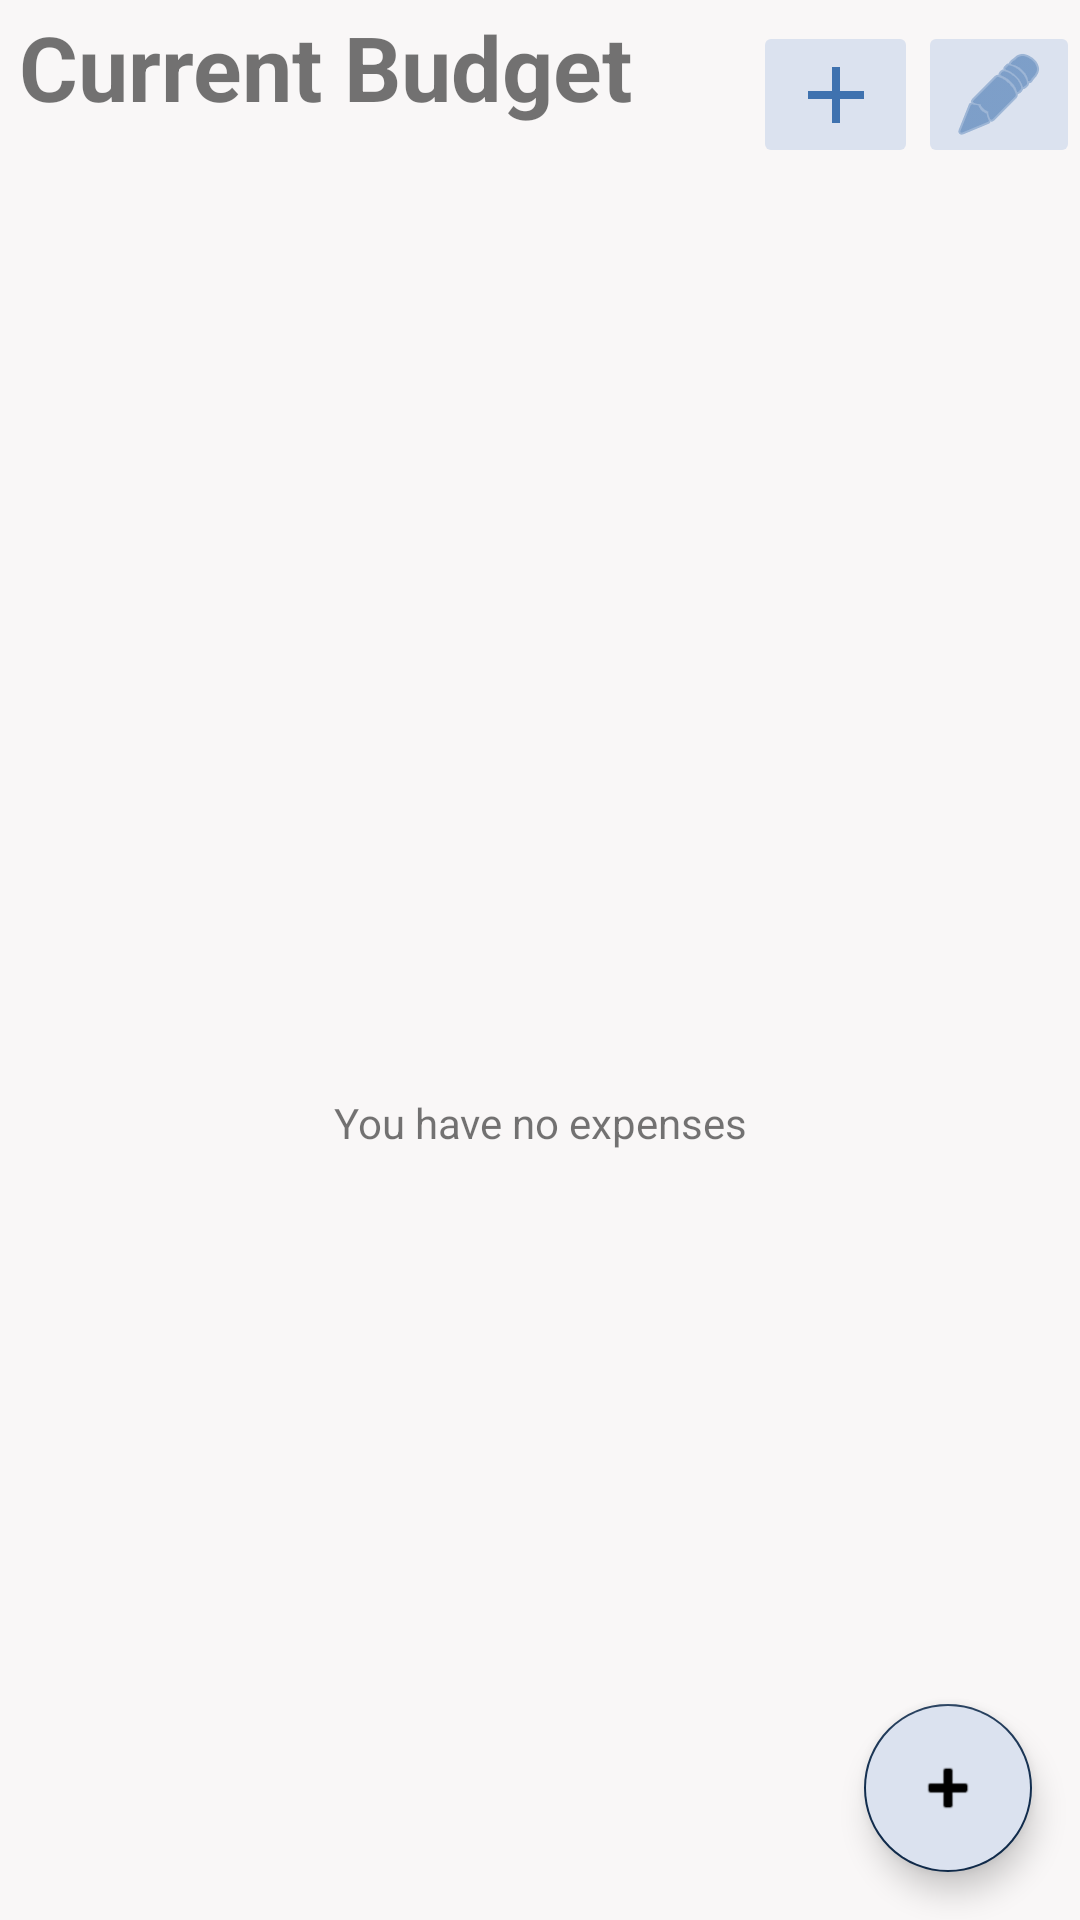

Icon bounding boxes for this 1080px×1920px phone screenshot, format BBox(x1, y1, x2, y2):
add: BBox(765, 39, 906, 150), BBox(864, 1704, 1032, 1872)
edit: BBox(930, 39, 1068, 150)
